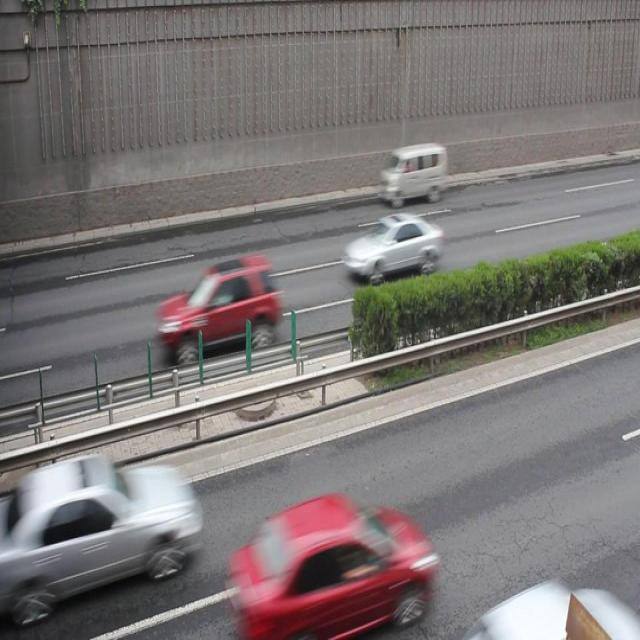car: (1, 452, 200, 610), (225, 492, 432, 640), (156, 256, 282, 359), (341, 213, 442, 279)
truck: (379, 144, 447, 202)
